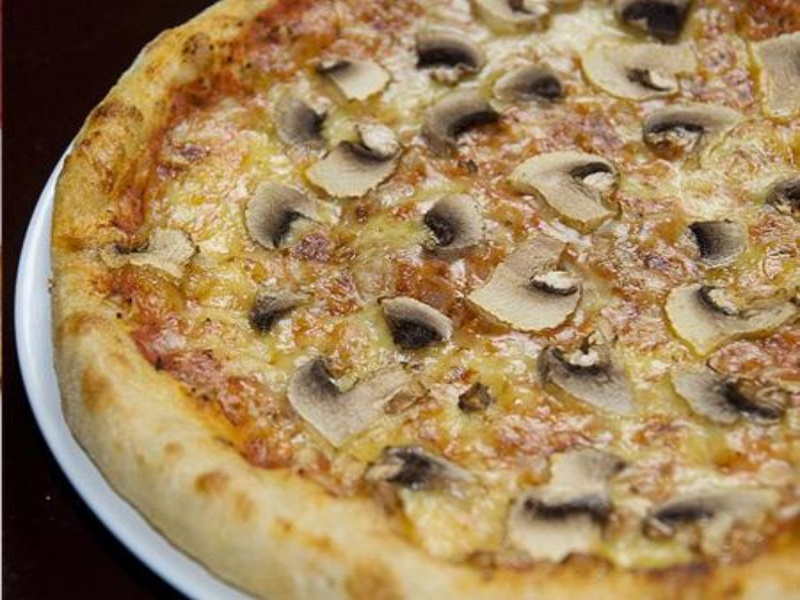champignon: (501, 435, 630, 566), (462, 235, 592, 337), (284, 356, 419, 443), (507, 144, 629, 235), (663, 280, 800, 356), (571, 37, 707, 106), (531, 340, 640, 419), (244, 178, 346, 254), (639, 102, 750, 165), (416, 90, 504, 166), (305, 138, 409, 199), (375, 292, 459, 359), (419, 187, 491, 259), (314, 51, 393, 106), (681, 213, 750, 272)
